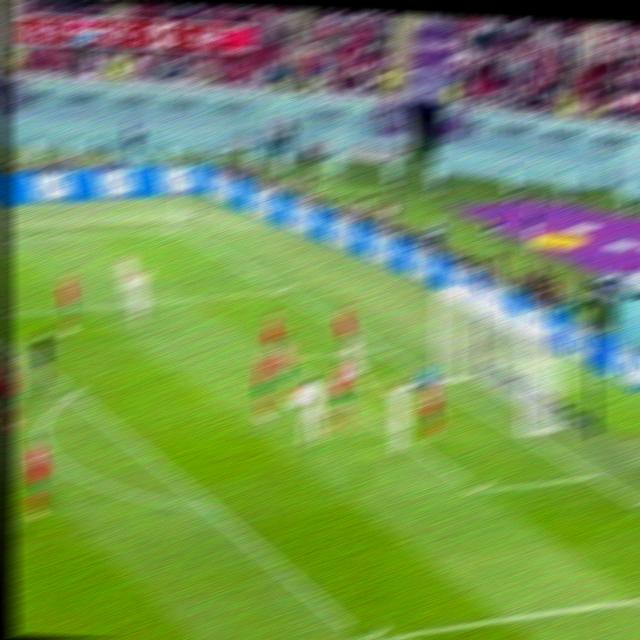bigarea_bottom_inner: (343, 615, 387, 639)
bigarea_top_outter: (268, 278, 293, 298)
bottom_arc_area_intersection: (193, 491, 225, 524)
corner: (161, 222, 190, 236)
smallarea_bottom_inner: (462, 473, 495, 507)
smallarea_bottom_outter: (576, 460, 606, 488)
smallarea_top_outter: (367, 338, 392, 358)
top_arc_area_intersection: (60, 383, 85, 404)
